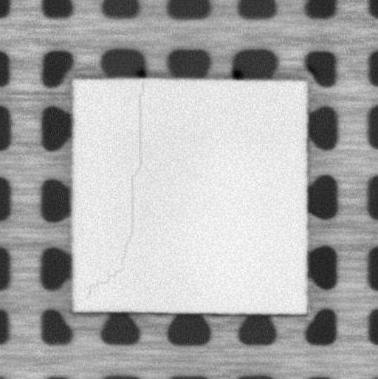DIE_CRACK: (81, 84, 150, 293)
